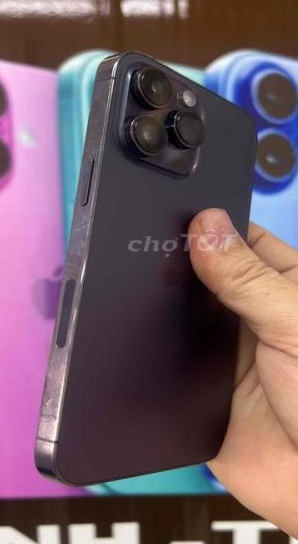scratch: (29, 341, 75, 459), (66, 116, 103, 253)
